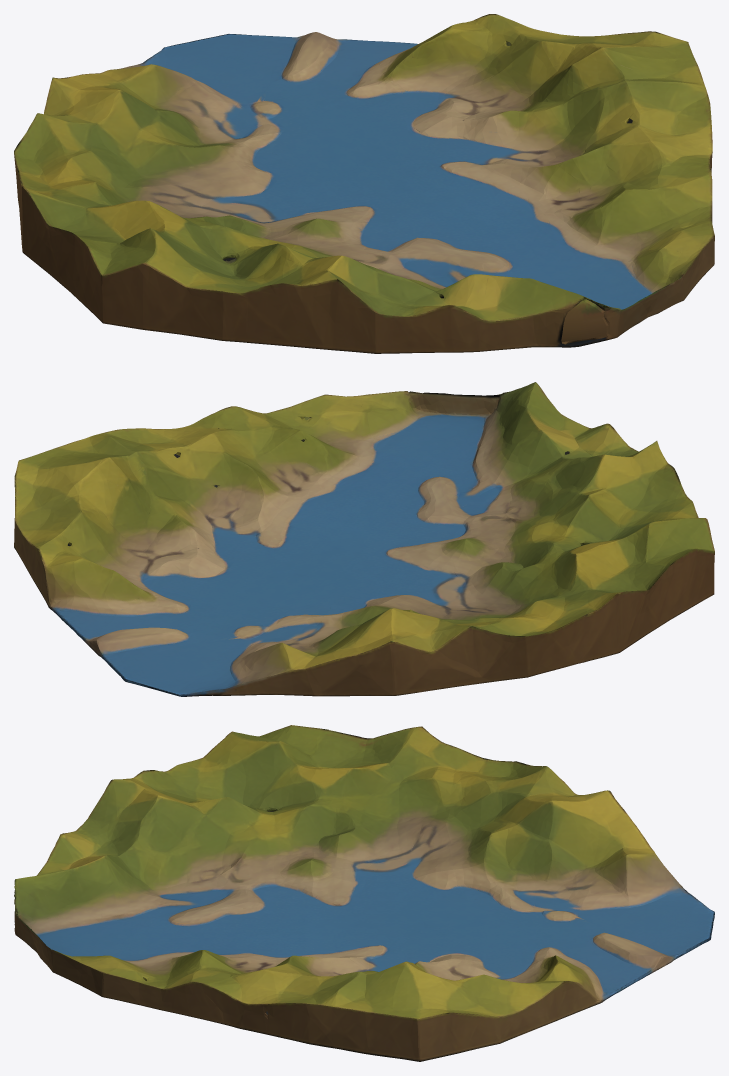
3 renders of one model, top to bottom at view 1: azimuth 30°, elevation 25°; view 2: azimuth 150°, elevation 25°; view 3: azimuth 270°, elevation 25°, orthographic. The views are drawn at different scales.
Parts seen in each view (by area): view 1: world; view 2: world; view 3: world.
Boxes of the visible parts, x1,y1,x2,y2 form: world: [14, 14, 714, 353]; world: [14, 382, 714, 696]; world: [14, 725, 714, 1061].
Bounding box in the file's own units: 0.9617 × 0.0995 × 1.
2 materials, 1 textured.
